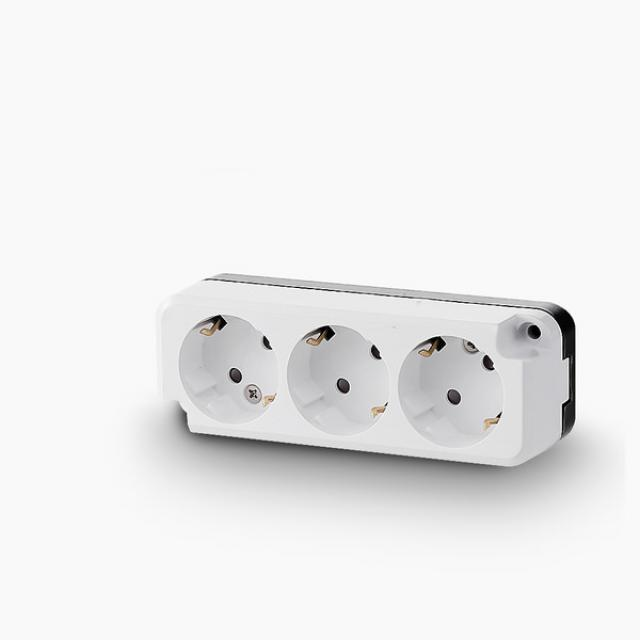typeb: (118, 241, 585, 508)
